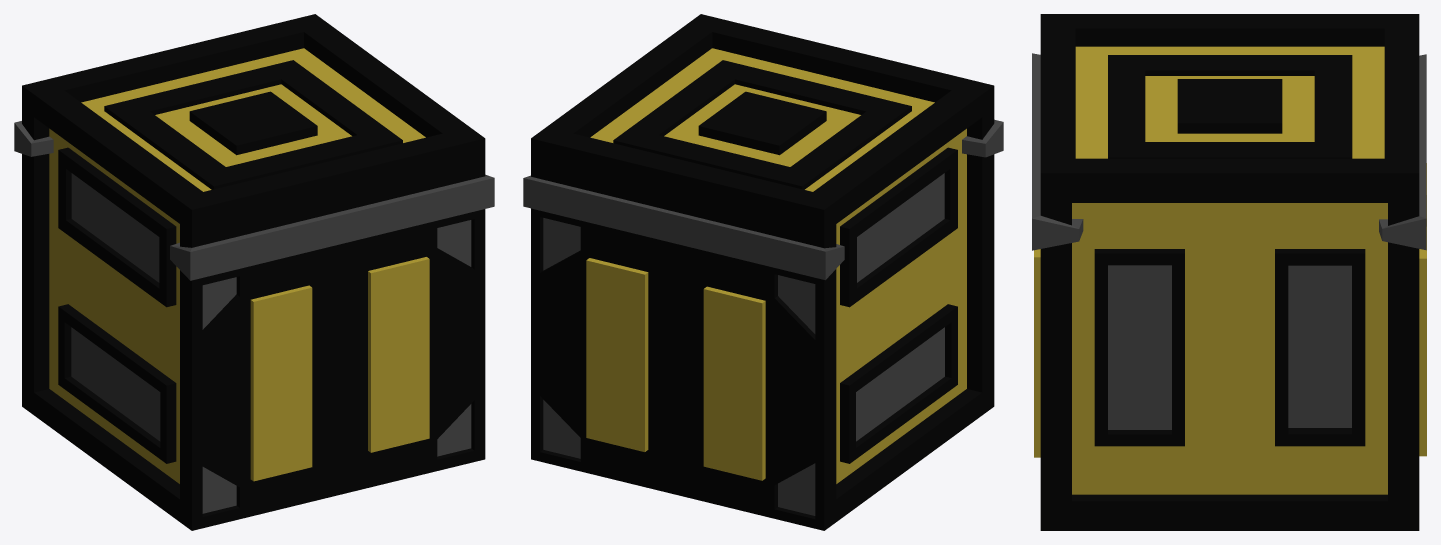
Rendered from mediumValueBox.glb.
3 renders of one model, left to right at view 1: azimuth 30°, elevation 25°; view 2: azimuth 150°, elevation 25°; view 3: azimuth 270°, elevation 25°, orthographic. The views are drawn at different scales.
Visible parts, largest first — view 1: MediumValueBox; view 2: MediumValueBox; view 3: MediumValueBox.
Part boxes in pixels (box(x1,y1,x2,y2)): MediumValueBox: box(14, 14, 494, 530); MediumValueBox: box(523, 14, 1003, 530); MediumValueBox: box(1032, 14, 1426, 530).
Bounding box in the file's own units: 1.25 × 1.25 × 1.25.
